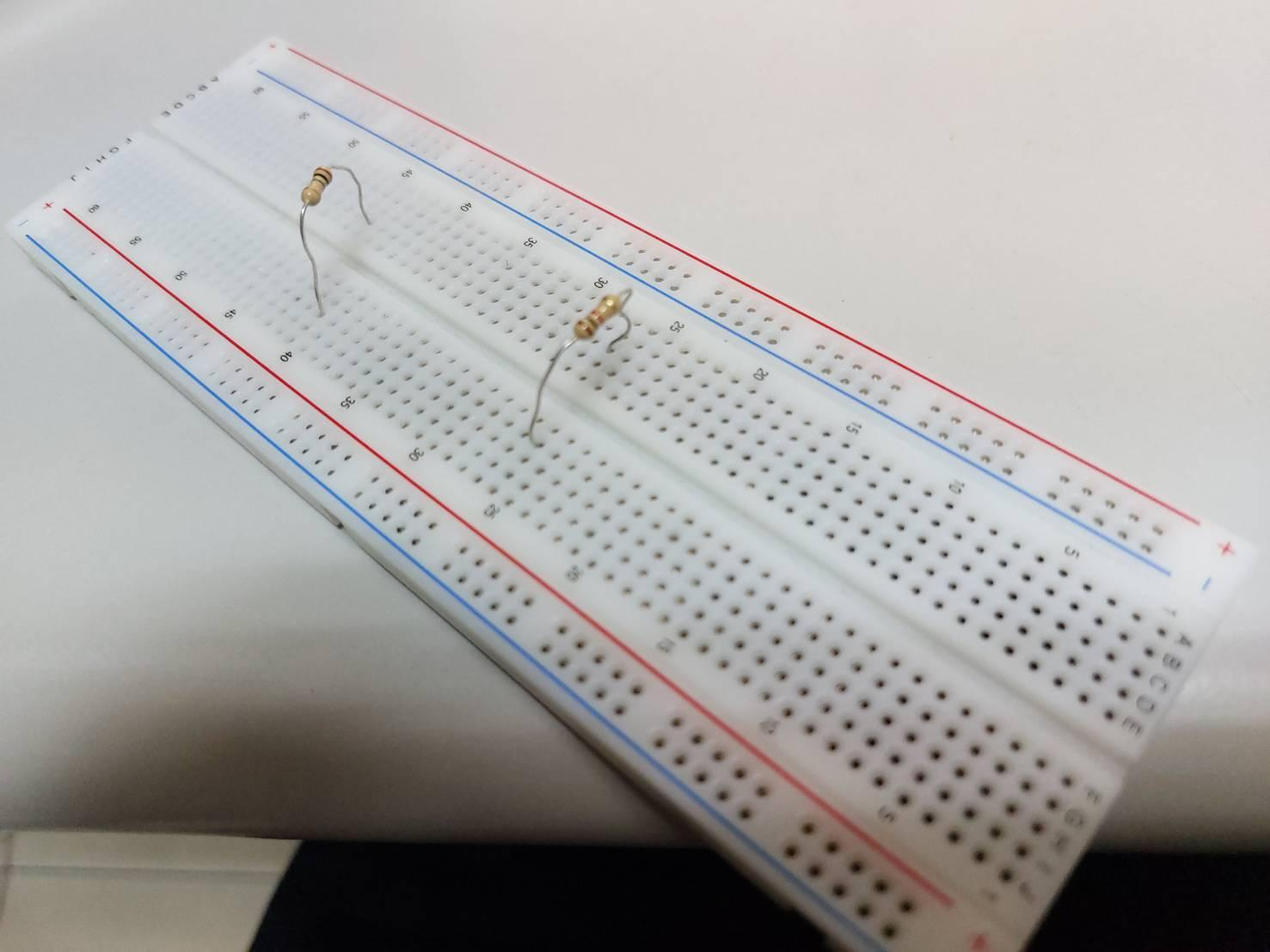resistor: (572, 291, 624, 340), (302, 164, 333, 204)
